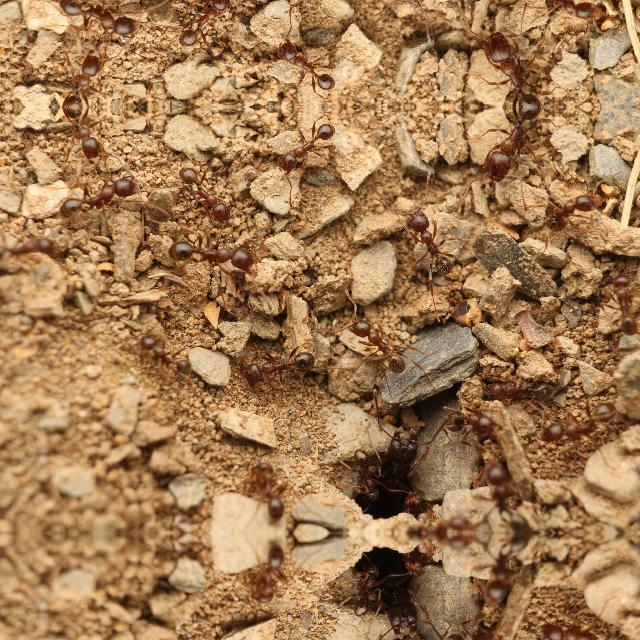Messor: (337, 305, 427, 387), (46, 159, 142, 231), (272, 20, 358, 99), (245, 322, 327, 404), (272, 114, 358, 192), (478, 446, 552, 532), (478, 534, 552, 618), (394, 198, 470, 276), (478, 106, 548, 184), (478, 28, 548, 106), (538, 393, 616, 462), (165, 232, 262, 286), (45, 0, 142, 53), (432, 392, 508, 452), (376, 415, 426, 505), (179, 166, 241, 232), (376, 560, 426, 640), (137, 323, 207, 379), (56, 105, 114, 168), (56, 44, 114, 106), (540, 185, 608, 235), (341, 559, 382, 640), (342, 424, 382, 506), (252, 446, 292, 528), (252, 537, 292, 619), (538, 602, 616, 640), (179, 0, 241, 46), (606, 274, 640, 336), (432, 613, 507, 640), (539, 0, 608, 27)
